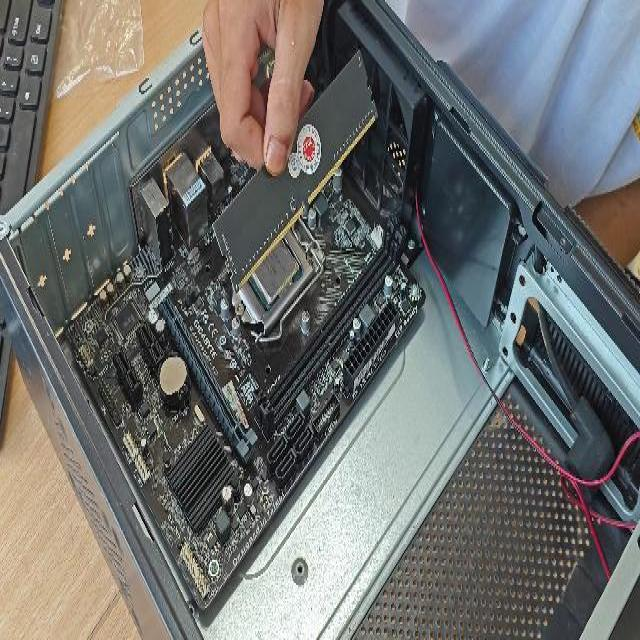CPU: (246, 236, 302, 306)
Mainboard: (62, 86, 427, 612)
RAM: (212, 44, 380, 294)
